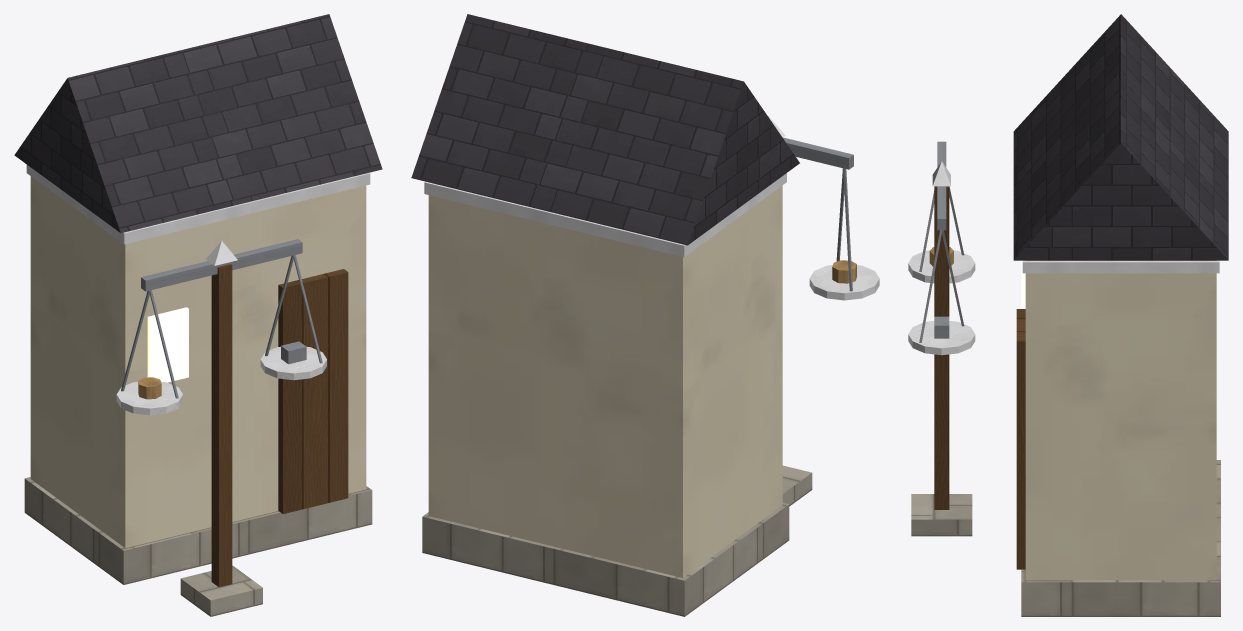
The model's file is protocol.balancer.glb.
3 views of the same model, side by side, from view 1: azimuth 30°, elevation 25°; view 2: azimuth 150°, elevation 25°; view 3: azimuth 270°, elevation 25° (orthographic). The views are drawn at different scales.
Visible parts, largest first — view 1: building.protocol.balancer; view 2: building.protocol.balancer; view 3: building.protocol.balancer.
Part boxes in pixels (box(x1,y1,x2,y2)): building.protocol.balancer: box(14, 14, 382, 616); building.protocol.balancer: box(411, 14, 879, 616); building.protocol.balancer: box(908, 14, 1228, 616).
Size of the model in its own units: 2.27 by 3.45 by 2.1.
9 materials, 8 textured.
